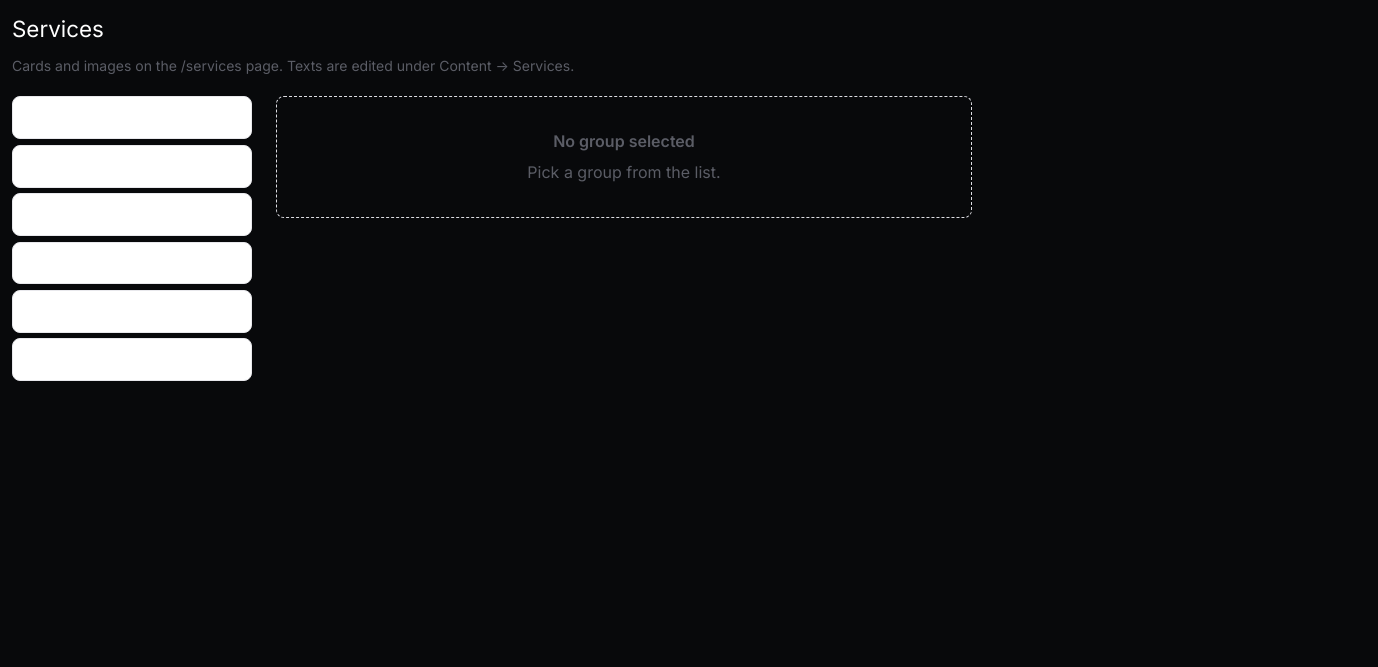
it: ServicesPageCards › AI Build points to Content for its texts
Click the button "AI Build".
click(132, 215)  # box [12,193,252,236]
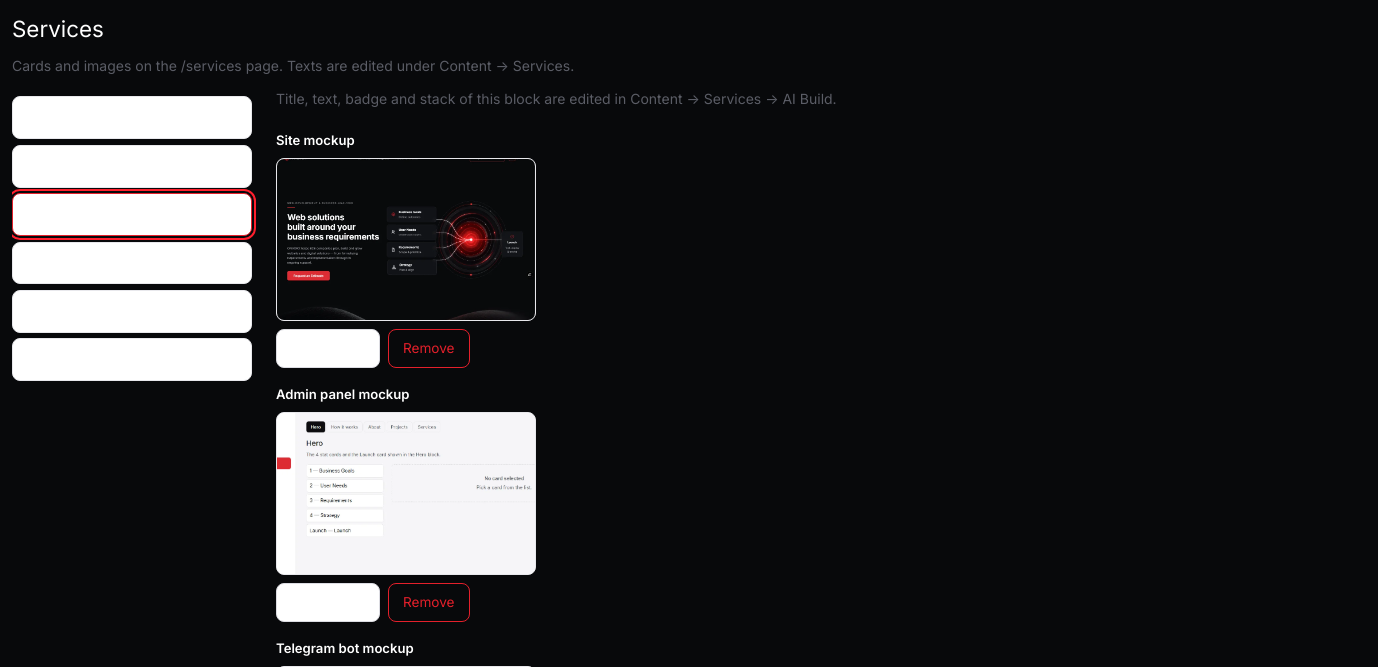
Now the text "Title, text, badge and stack of this block" is shown, box [276,90,626,107]
